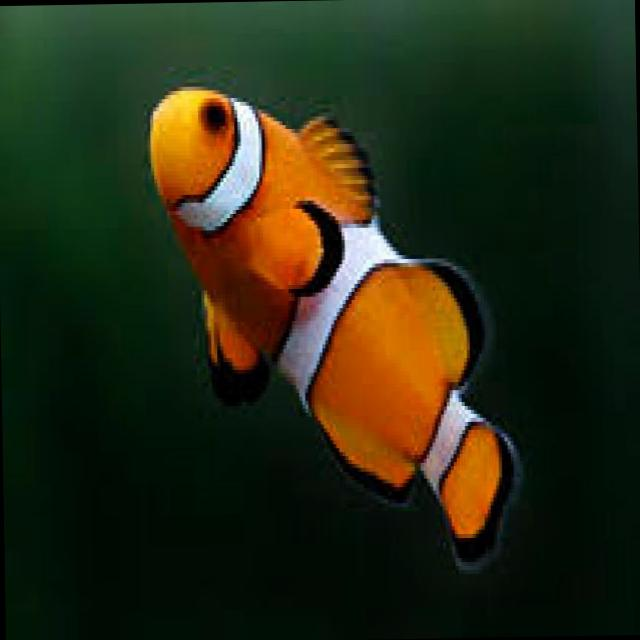ClownFish: (146, 76, 524, 580)
